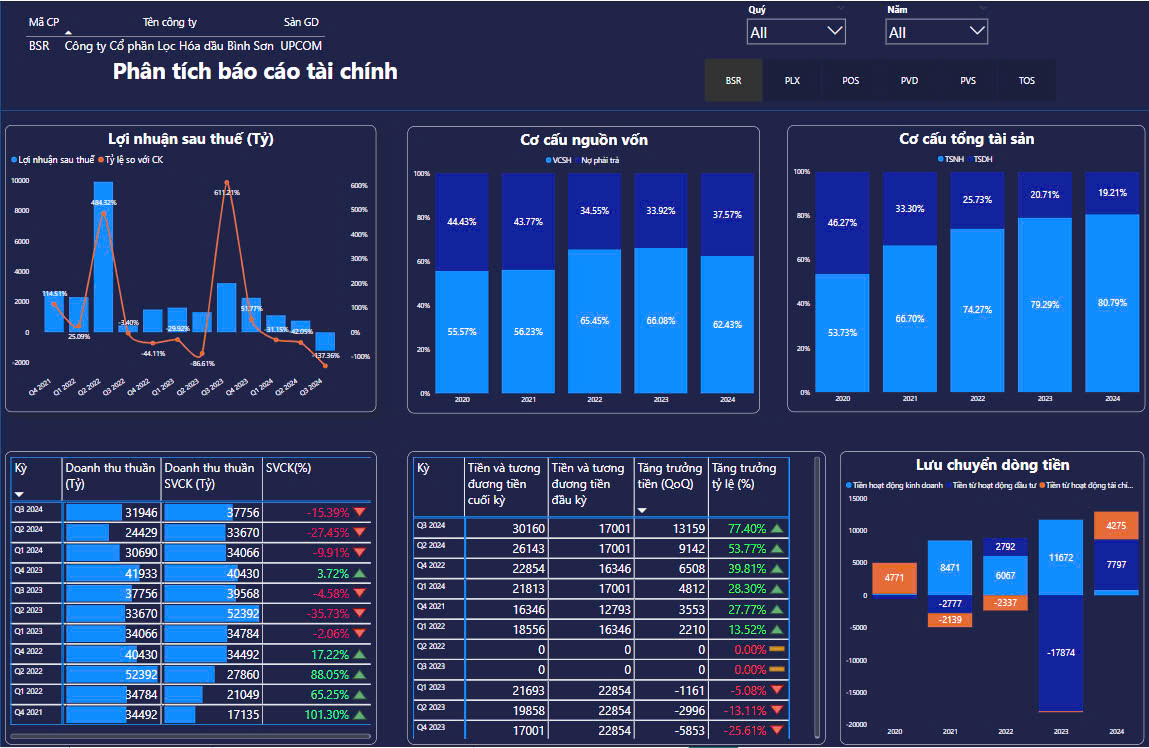

This screenshot's page, from the dashboard's own definition file:
{"tool":"powerbi","page":{"name":"Phân tích các báo cáo tài chính","canvas":[2100,1400],"ordinal":1},"visuals":[{"type":"shape","box":[0,0,2800,1802],"z":0},{"type":"shape","title":"OverView","box":[0,0,2800,197.4],"z":1000},{"type":"slicer","fields":{"Values":["dim_company.symbol"]},"box":[1228.3,100,671.7,84.8],"z":2000},{"type":"tableEx","fields":{"Values":["dim_company.symbol","dim_company.organ_name","dim_exchange.exchange"]},"box":[40.4,21.2,1013.5,82.7],"z":3000},{"type":"hundredPercentStackedColumnChart","title":"Cơ cấu tổng tài sản","fields":{"Category":["dim_date.year"],"Y":["fact_financialaccount.TSNH","fact_financialaccount.TSDH"]},"box":[1400,222,636,510],"z":4000},{"type":"lineClusteredColumnComboChart","title":"Lợi nhuận sau thuế (Tỷ)","fields":{"Category":["dim_date.QuarterYear"],"Y":["fact_financialaccount.Lợi nhuận sau thuế"],"Y2":["fact_financialaccount.%LoinhuanSVCK"]},"box":[8.9,222.2,680,544.4],"z":5000},{"type":"hundredPercentStackedColumnChart","title":"Cơ cấu nguồn vốn","fields":{"Category":["dim_date.year"],"Y":["fact_financialaccount.VCSH","fact_financialaccount.Nợ phải trả"]},"box":[724,224,626,510],"z":6000},{"type":"pivotTable","fields":{"Rows":["dim_date.QuarterYear"],"Values":["fact_financialaccount.Doanh thu thuần","fact_financialaccount.DoanhThuCungKyNamTruoc","fact_financialaccount.TyLeThayDoi"]},"box":[7.8,802,660.8,521.6],"z":7000},{"type":"columnChart","title":"Lưu chuyển dòng tiền","fields":{"Category":["dim_date.year"],"Y":["fact_financialaccount.Tiền hoạt động kinh doanh","fact_financialaccount.Tiền từ hoạt động đầu tư","fact_financialaccount.Tiền từ hoạt động tài chính"]},"box":[1494.1,802,541.2,521.6],"z":8000},{"type":"pivotTable","fields":{"Rows":["dim_date.QuarterYear"],"Values":["fact_financialaccount.Tiền và tương đương tiền cuối kỳ","fact_financialaccount.Tiền và tương đương tiền đầu kỳ","fact_financialaccount.Tăng trưởng tiền (QoQ)","fact_financialaccount.Tăng trưởng tỷ lệ (%)"]},"box":[723.5,802,743.1,521.6],"z":9000},{"type":"slicer","fields":{"Values":["dim_date.quarter"]},"box":[1317.4,0,195.7,93.5],"z":10000},{"type":"slicer","fields":{"Values":["dim_date.year"]},"box":[1565.2,0,202.2,93.5],"z":11000}]}

Visuals, with their boxes in screenshot pixels (x1, y1, x2, y2), scaled from the page's 2100x1400 canvas onto the 1149x748 screenshot:
shape: x1=0, y1=0, x2=1148, y2=747
"OverView" shape: x1=0, y1=0, x2=1148, y2=105
slicer - dim_company.symbol: x1=672, y1=53, x2=1040, y2=99
tableEx - dim_company.symbol x dim_company.organ_name: x1=22, y1=11, x2=577, y2=56
"Cơ cấu tổng tài sản" hundredPercentStackedColumnChart: x1=766, y1=119, x2=1114, y2=391
"Lợi nhuận sau thuế (Tỷ)" lineClusteredColumnComboChart: x1=5, y1=119, x2=377, y2=410
"Cơ cấu nguồn vốn" hundredPercentStackedColumnChart: x1=396, y1=120, x2=739, y2=392
pivotTable - dim_date.QuarterYear x fact_financialaccount.Doanh thu thuần: x1=4, y1=428, x2=366, y2=707
"Lưu chuyển dòng tiền" columnChart: x1=817, y1=428, x2=1114, y2=707
pivotTable - dim_date.QuarterYear x fact_financialaccount.Tiền và tương đương tiền cuối kỳ: x1=396, y1=428, x2=802, y2=707
slicer - dim_date.quarter: x1=721, y1=0, x2=828, y2=50
slicer - dim_date.year: x1=856, y1=0, x2=967, y2=50
